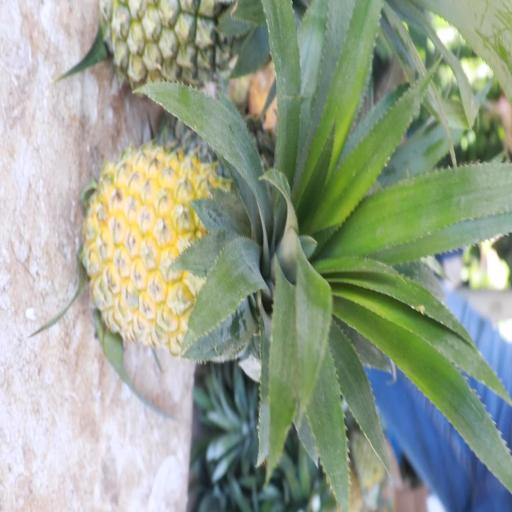------------------------------: (105, 0, 310, 96)
Pineapple - v8 v1: (89, 143, 324, 357)
